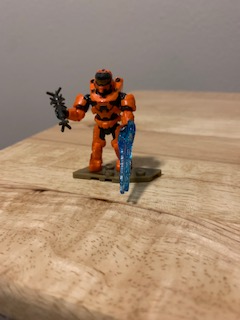spartan: (55, 66, 135, 172)
